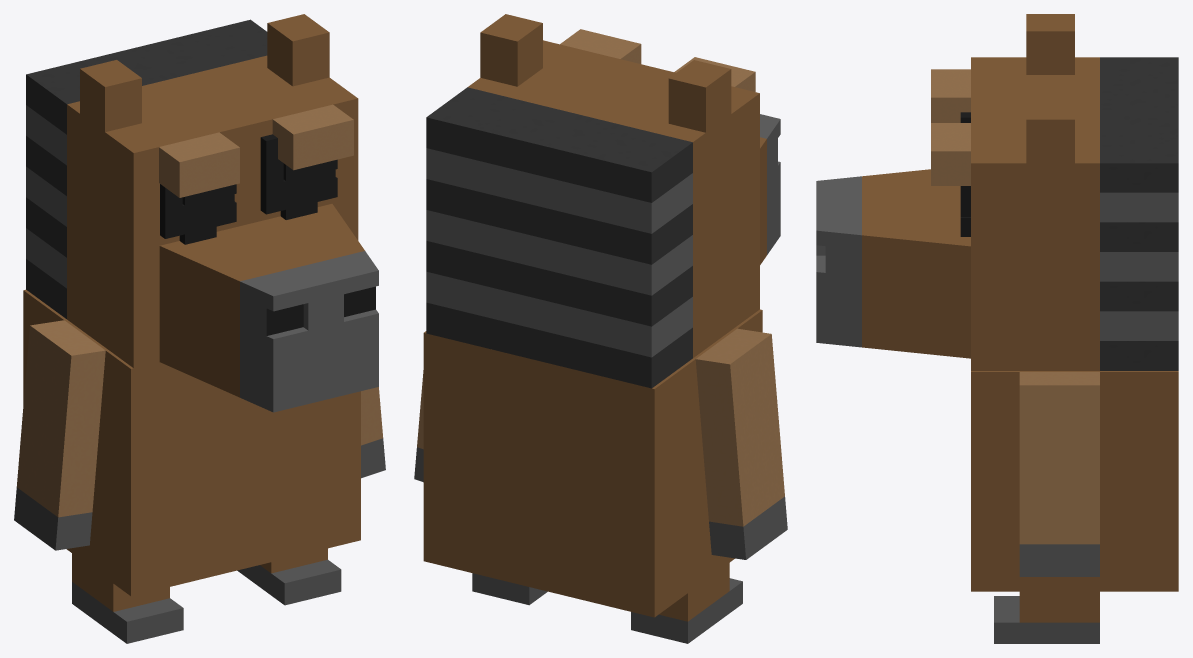
3 renders of one model, left to right at view 1: azimuth 30°, elevation 25°; view 2: azimuth 150°, elevation 25°; view 3: azimuth 270°, elevation 25°, orthographic. The views are drawn at different scales.
Visible parts, largest first — view 1: Ch_31_Head, Ch_31, Ch_31_Hand_L, Ch_31_Eyebrow, Ch_31_Leg_L, Ch_31_Leg_R, Ch_31_Eye_01, Ch_31_Eye_03_R, Ch_31_Hand_R, Ch_31_Eye_02, Ch_31_Eye_03_L; view 2: Ch_31_Head, Ch_31, Ch_31_Hand_L, Ch_31_Leg_L, Ch_31_Eyebrow, Ch_31_Leg_R, Ch_31_Hand_R; view 3: Ch_31_Head, Ch_31, Ch_31_Hand_R, Ch_31_Leg_R, Ch_31_Eyebrow.
Boxes of the visible parts, x1,y1,x2,y2 form: Ch_31_Head: (26, 14, 378, 412); Ch_31: (23, 289, 360, 596); Ch_31_Hand_L: (14, 320, 105, 550); Ch_31_Eyebrow: (159, 104, 353, 197); Ch_31_Leg_L: (72, 553, 183, 643); Ch_31_Leg_R: (237, 548, 341, 605); Ch_31_Eye_01: (179, 163, 317, 244); Ch_31_Eye_03_R: (260, 134, 337, 214); Ch_31_Hand_R: (361, 387, 385, 478); Ch_31_Eye_02: (167, 169, 335, 228); Ch_31_Eye_03_L: (160, 184, 236, 238); Ch_31_Head: (426, 14, 780, 388); Ch_31: (423, 309, 762, 617); Ch_31_Hand_L: (695, 328, 787, 559); Ch_31_Leg_L: (631, 563, 742, 643); Ch_31_Eyebrow: (560, 29, 755, 91); Ch_31_Leg_R: (472, 573, 547, 605); Ch_31_Hand_R: (414, 370, 423, 482); Ch_31_Head: (816, 14, 1178, 370); Ch_31: (971, 371, 1178, 591); Ch_31_Hand_R: (1019, 372, 1099, 576); Ch_31_Leg_R: (994, 591, 1099, 643); Ch_31_Eyebrow: (931, 69, 970, 185).
Bounding box in the file's own units: 7.73 × 12.2 × 7.61.
